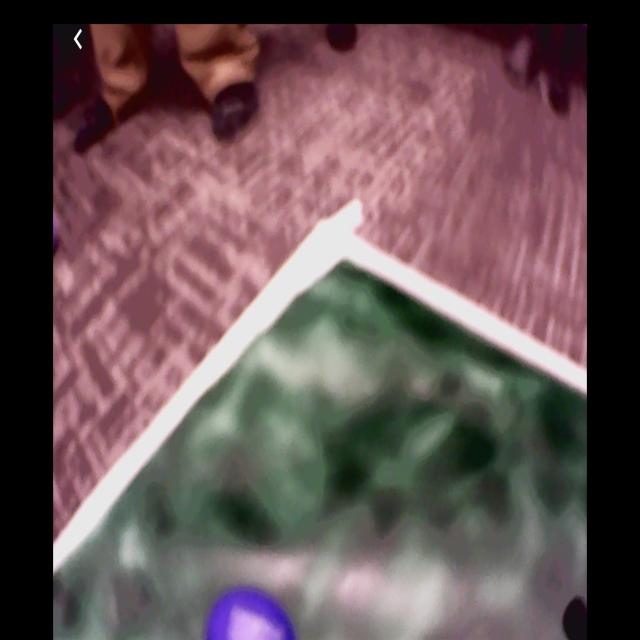ball: (206, 587, 295, 640)
